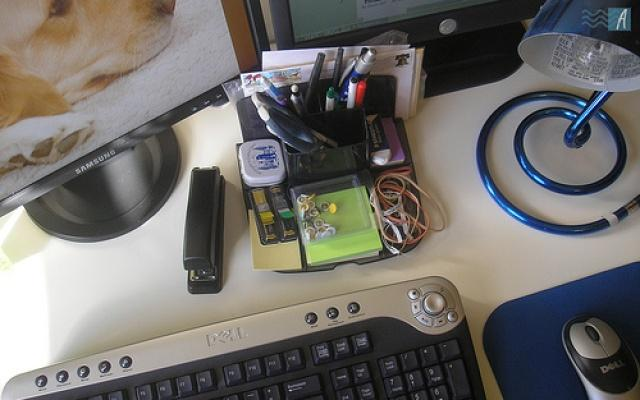AIO PC-Monitor-TV: (0, 0, 274, 242)
